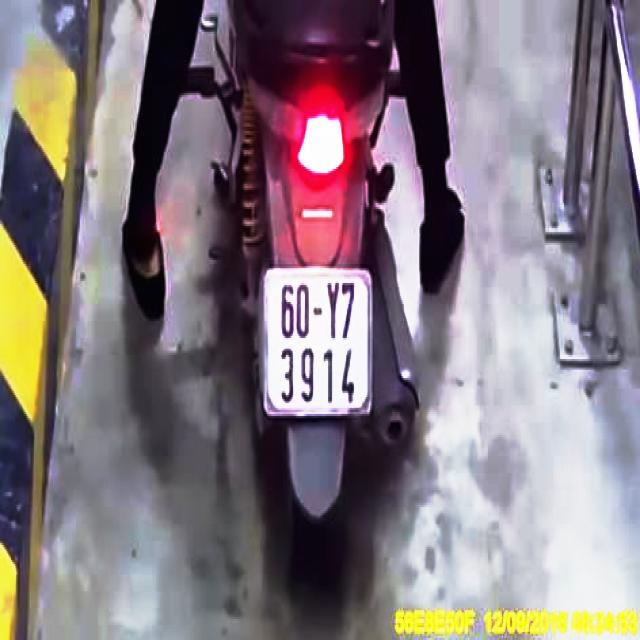license_plate: (266, 270, 370, 417)
